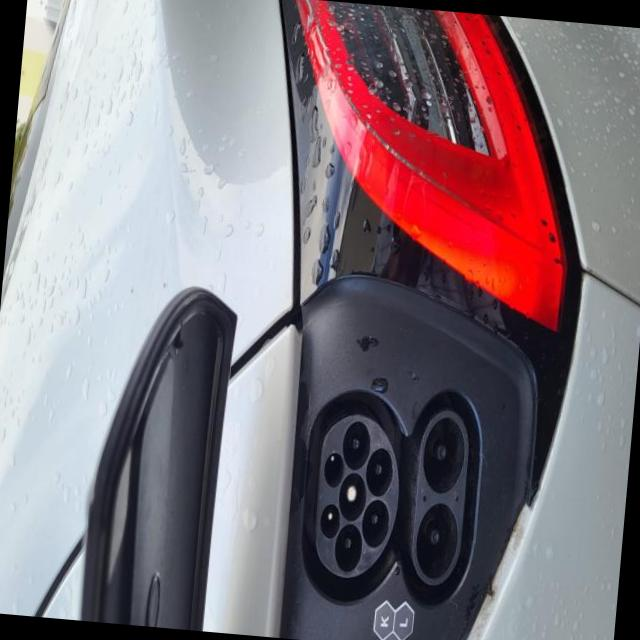inlet: (315, 414, 398, 576)
inlet-above-left: (320, 504, 339, 537)
inlet-above-right: (324, 452, 344, 486)
inlet-below-left: (362, 499, 389, 546)
inlet-below-right: (365, 447, 394, 495)
inlet-center: (338, 472, 366, 520)
inlet-center-left: (334, 523, 362, 570)
inlet-center-right: (342, 420, 370, 469)
